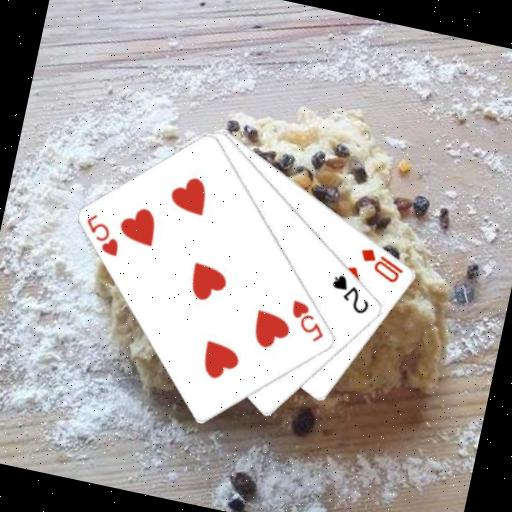10D: (353, 243, 409, 286)
2S: (324, 269, 377, 317)
5H: (77, 209, 127, 259), (283, 296, 332, 346)
